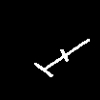double_crochet: (34, 39, 89, 76)
